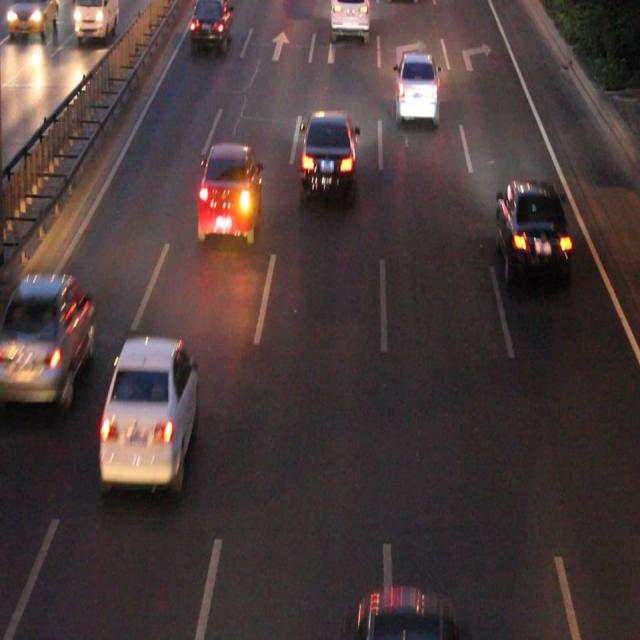car: (99, 340, 197, 478), (1, 279, 93, 398), (496, 183, 568, 282), (200, 144, 261, 239), (303, 111, 357, 202), (394, 56, 437, 119), (192, 1, 231, 45), (331, 1, 369, 36)
